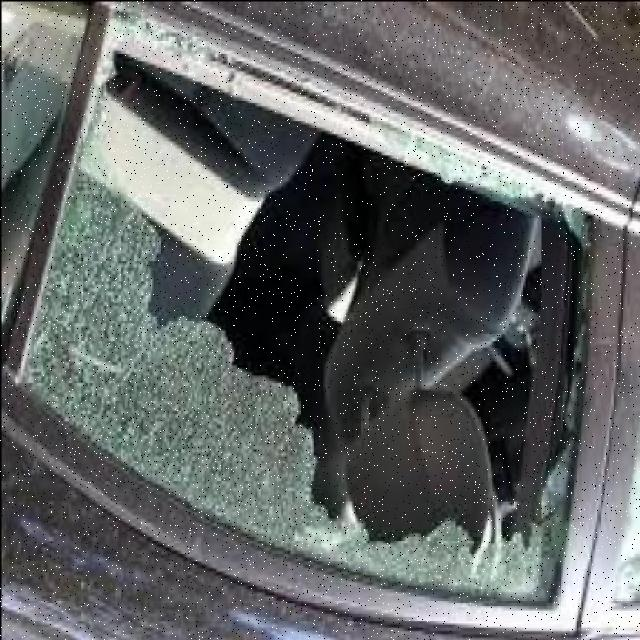damage: (11, 8, 601, 610)
